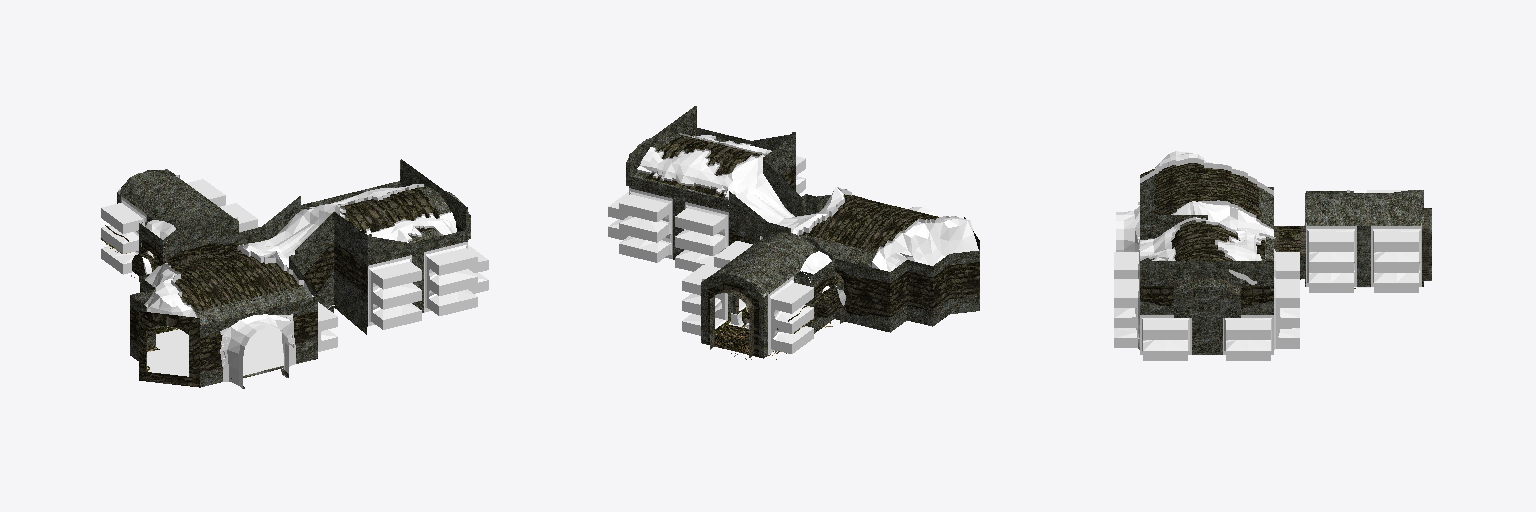
The picture shows the model from 3 angles: view 1: azimuth 30°, elevation 25°; view 2: azimuth 150°, elevation 25°; view 3: azimuth 270°, elevation 25°; orthographic projection.
Parts seen in each view (by area): view 1: mesh8, mesh23, mesh5, mesh3, mesh24, mesh7; view 2: mesh8, mesh23, mesh5, mesh3, mesh7, mesh19, mesh20; view 3: mesh8, mesh23, mesh5, mesh3, mesh7, mesh6.
Boxes of the visible parts, x1,y1,x2,y2 form: mesh8: [101, 179, 488, 388]; mesh23: [117, 159, 470, 387]; mesh5: [130, 186, 464, 387]; mesh3: [117, 181, 470, 312]; mesh24: [147, 329, 283, 374]; mesh7: [161, 184, 449, 368]; mesh8: [608, 135, 978, 354]; mesh23: [626, 106, 979, 357]; mesh5: [645, 133, 979, 356]; mesh3: [626, 128, 812, 357]; mesh7: [637, 133, 958, 257]; mesh19: [629, 106, 863, 357]; mesh20: [817, 288, 843, 317]; mesh8: [1114, 151, 1421, 360]; mesh23: [1140, 175, 1423, 314]; mesh5: [1140, 163, 1300, 308]; mesh3: [1174, 226, 1370, 354]; mesh7: [1138, 158, 1275, 260]; mesh6: [1174, 208, 1428, 287].
Size of the model in its own units: 17.04 by 6.38 by 14.84.
Materials: 25 (12 with a texture image).